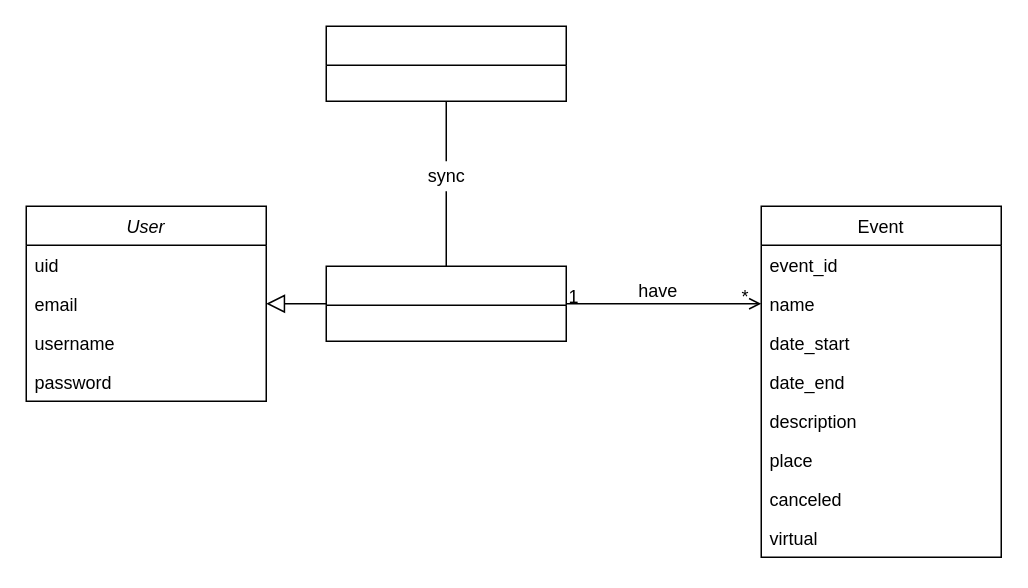
The diagram is 1028 pixels wide and 588 high, and some of its shapes have lost their labels. The centre of each missing label's shape, as x and y in pixels:
"Conference Owner" belongs at point (445, 303).
"Facebook" belongs at point (445, 63).
